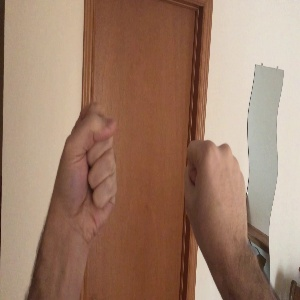hand: (55, 104, 116, 231), (186, 141, 245, 238)
